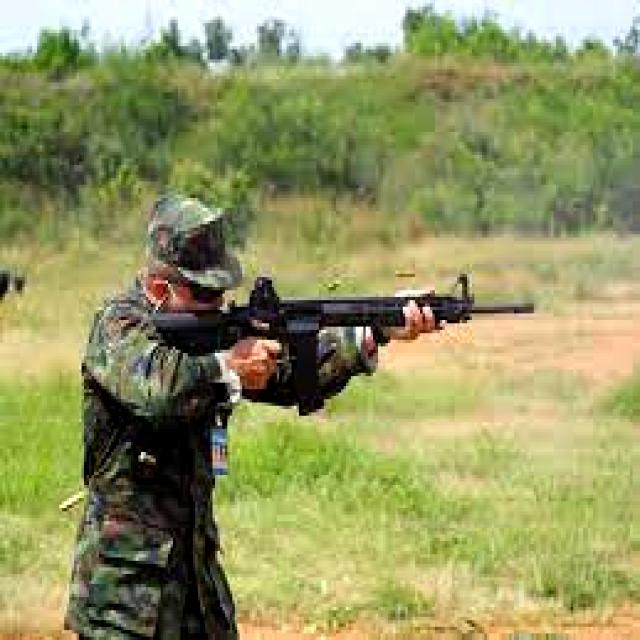m16: (110, 243, 556, 454)
